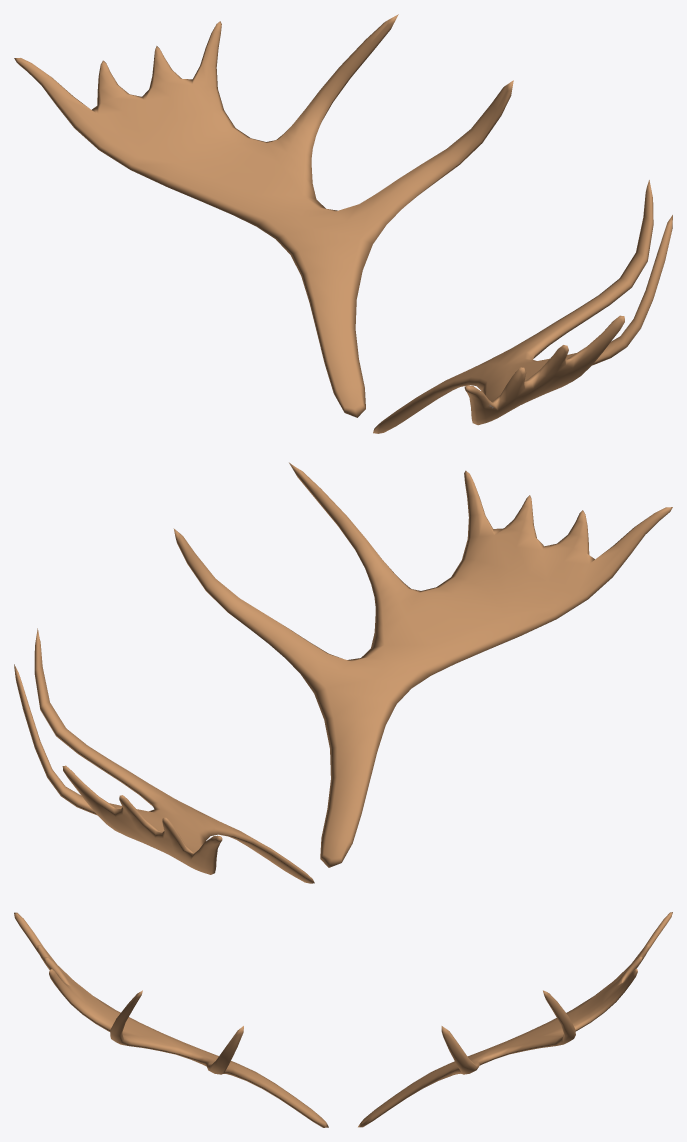
The model's file is Moose Antlers.fbx.
The picture shows the model from 3 angles, top to bottom: view 1: azimuth 30°, elevation 25°; view 2: azimuth 150°, elevation 25°; view 3: azimuth 270°, elevation 25°; orthographic projection. The views are drawn at different scales.
Parts seen in each view (by area): view 1: Moose Antlers; view 2: Moose Antlers; view 3: Moose Antlers.
Boxes of the visible parts, x1,y1,x2,y2 form: Moose Antlers: (14, 14, 672, 433); Moose Antlers: (14, 462, 672, 883); Moose Antlers: (14, 912, 672, 1127).
Size of the model in its own units: 2.7 by 6.18 by 2.04.
